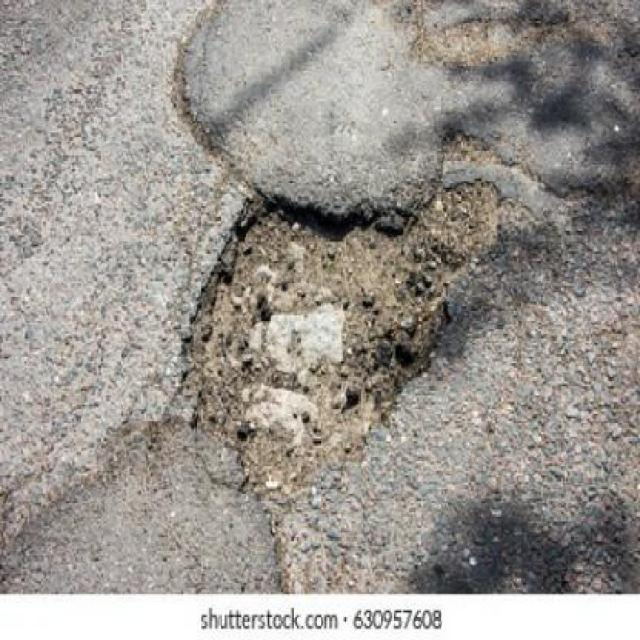Pothole: (182, 180, 501, 508)
